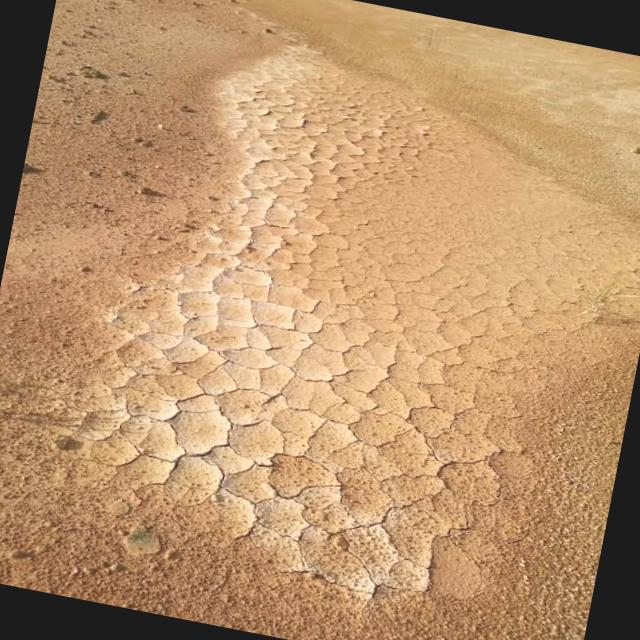suelo_seco: (79, 132, 488, 634)
